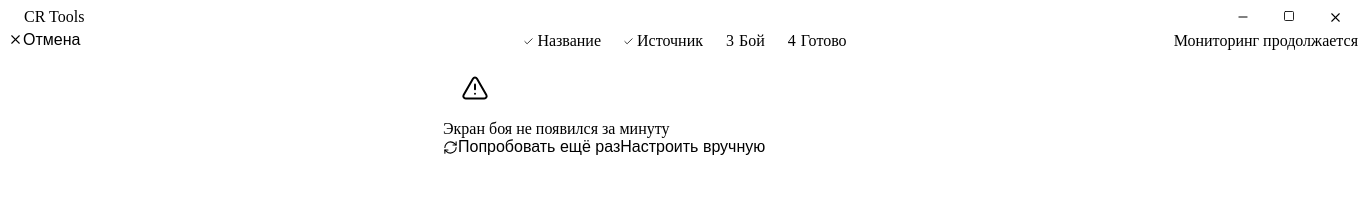
Test: automatic setup: failures › does not infer a lost source from an unrelated command message
Click the button "Попробовать ещё раз": (532, 147) x1=443 y1=138 x2=620 y2=156
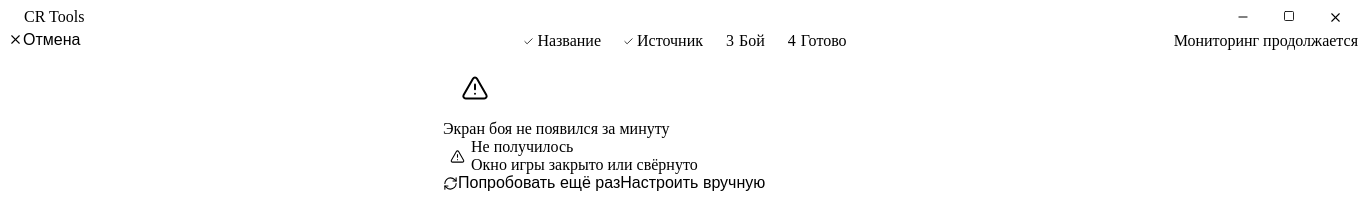
Expected: the heading "Экран боя не появился за минуту" is shown, x1=443 y1=120 x2=670 y2=137
Now the text "Окно игры закрыто или свёрнуто" is shown, box x1=471 y1=156 x2=698 y2=173
